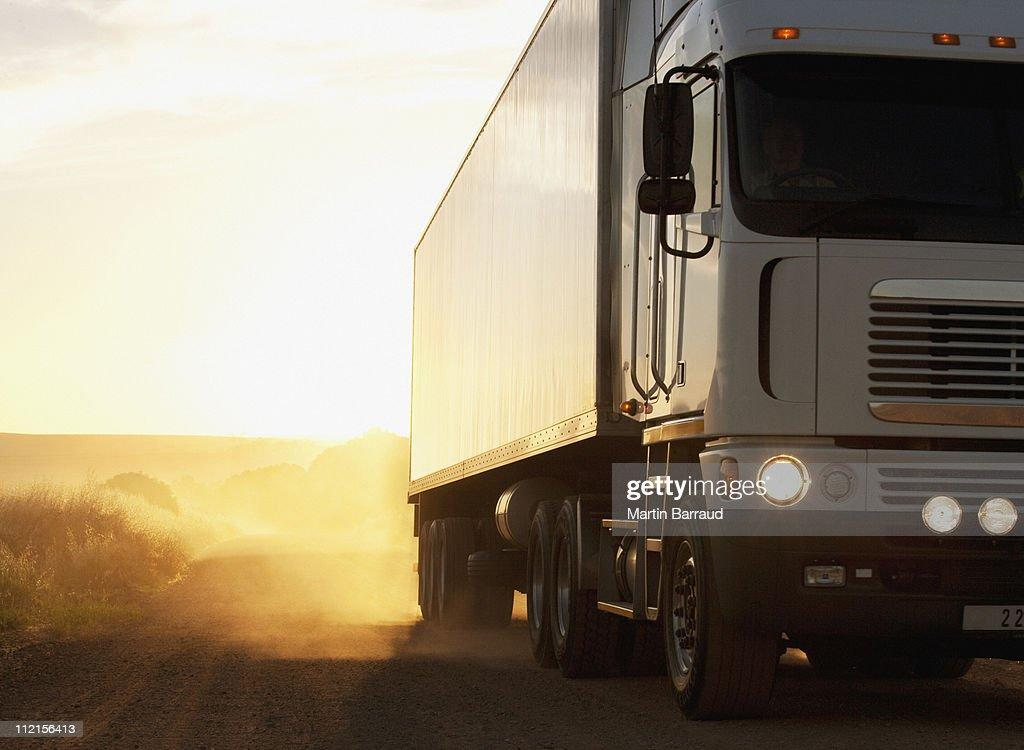truck: (407, 1, 1024, 720)
